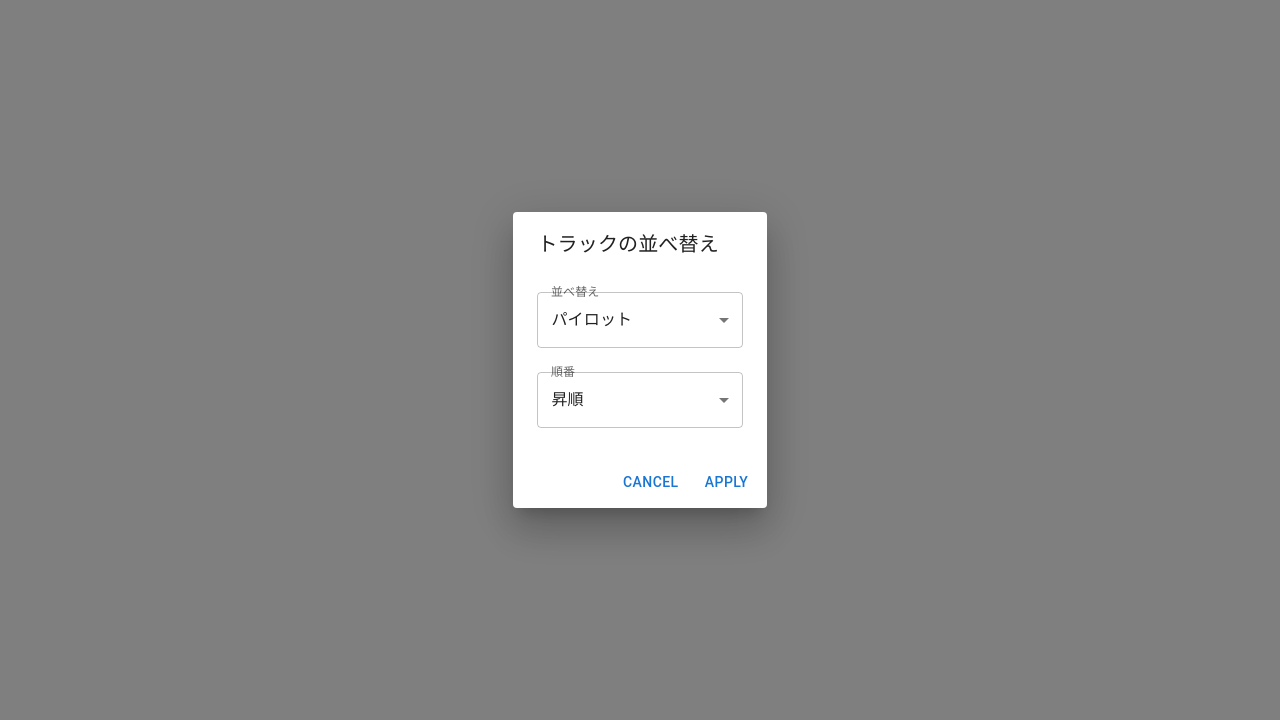
Test case: TrackListSortDialog › updates order state on change
Step 1. Replace the text in the field labelled "昇順" with "desc" → (640, 400), box [538,372,743,428]
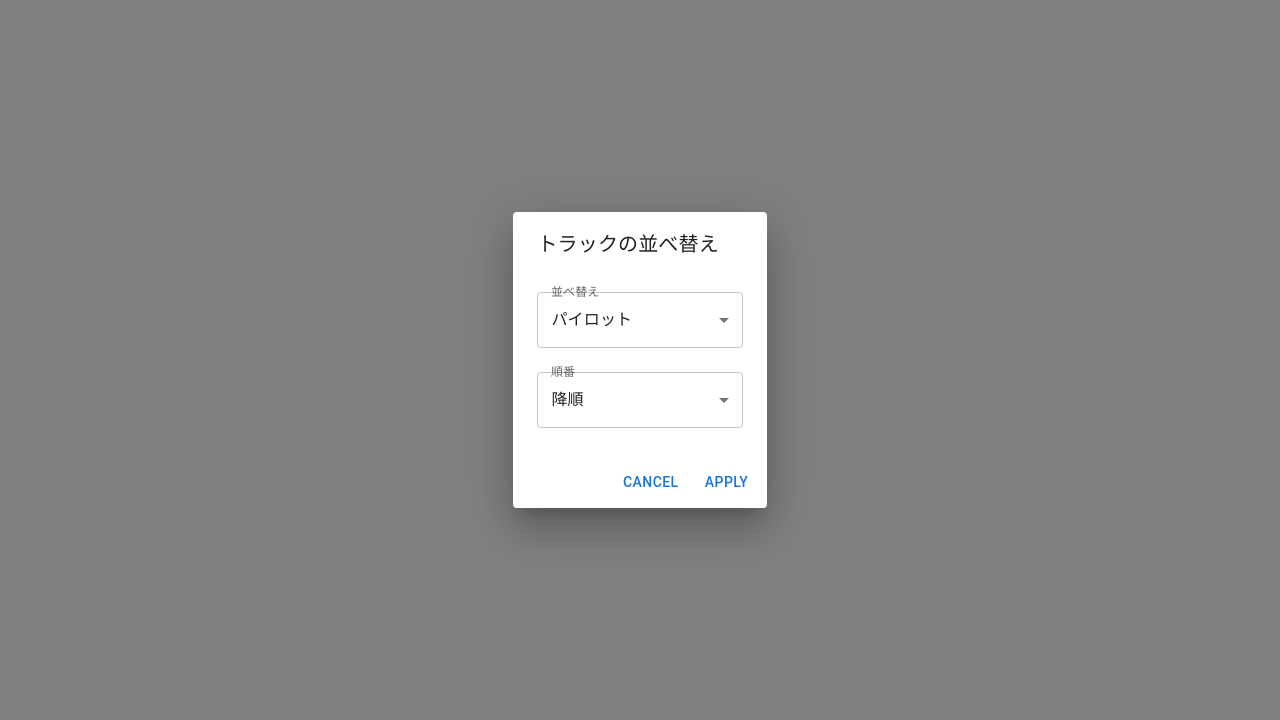
Check: the dropdown "降順" is shown, box [552,390,584,409]
